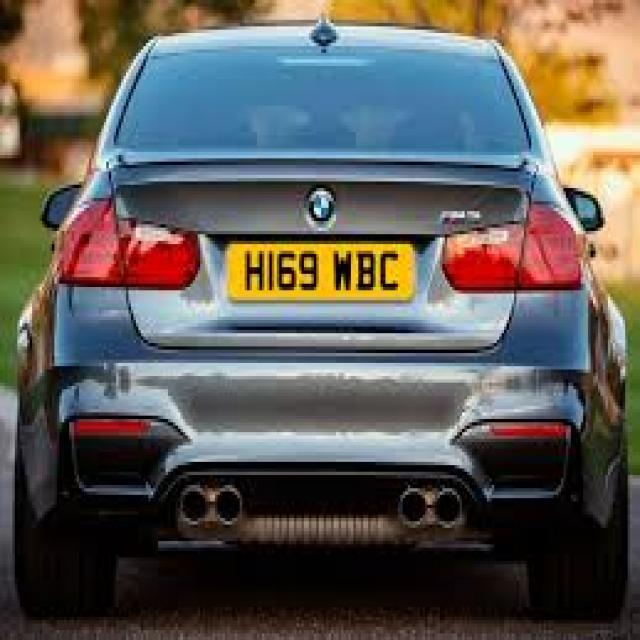Number-Plate: (228, 240, 412, 305)
